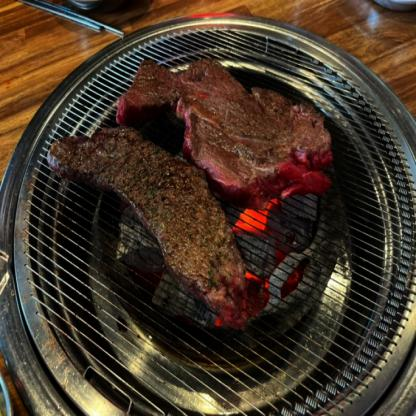Carne: (48, 122, 257, 328), (119, 51, 338, 215)
